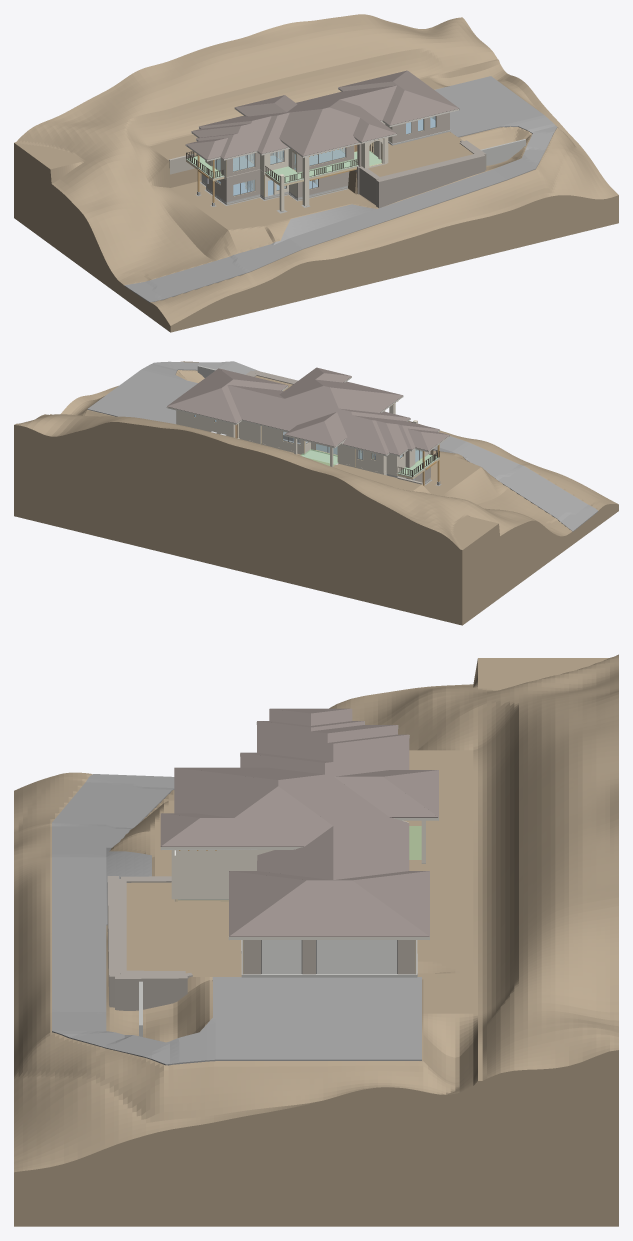
The model's file is reese_layers.glb.
3 views of the same model, one above another, from view 1: azimuth 30°, elevation 25°; view 2: azimuth 150°, elevation 25°; view 3: azimuth 270°, elevation 25° (orthographic). The views are drawn at different scales.
Parts seen in each view (by area): view 1: Backfill & Finish Grade, Driveway & Parking (paving per civil), Concrete Tile Roof (Class A), Front Boulder Retaining Wall (TW 5767.68, per civil), ML Ext Finish 028 stone, Fascia 2x10 (all roof edges), Concrete 010 W-10B Driveway Retaining Wall, ML Subfloor 23-32 T&G (FD-1), LL Ext Finish 017 stone, Entry Facade - stucco walls to roof line, arched opening, LL Ext Finish 015 stone, LL Slab on Grade 4in (+1 smaller); view 2: Backfill & Finish Grade, Concrete Tile Roof (Class A), Driveway & Parking (paving per civil), ML Ext Finish 000 stucco, Fascia 2x10 (all roof edges), ML Ext Finish 003 stucco, ML Ext Finish 001 stucco, ML Ext Finish 004 stucco; view 3: Backfill & Finish Grade, Concrete Tile Roof (Class A), Driveway & Parking (paving per civil), Front Boulder Retaining Wall (TW 5767.68, per civil), ML D-12 3 Car Garage slab, Entry Facade - stucco walls to roof line, arched opening, ML Ext Finish 053 stone, ML D-13 3 Car Garage slab, Fascia 2x10 (all roof edges), Garage Stem Walls 8in, ML Ext Finish 047 stucco.
Boxes of the visible parts, x1,y1,x2,y2 form: Backfill & Finish Grade: (14, 14, 618, 332); Driveway & Parking (paving per civil): (124, 76, 557, 302); Concrete Tile Roof (Class A): (186, 70, 459, 159); Front Boulder Retaining Wall (TW 5767.68, per civil): (355, 140, 486, 208); ML Ext Finish 028 stone: (392, 112, 449, 143); Fascia 2x10 (all roof edges): (185, 88, 459, 161); Concrete 010 W-10B Driveway Retaining Wall: (480, 139, 525, 165); ML Subfloor 23-32 T&G (FD-1): (212, 150, 356, 172); LL Ext Finish 017 stone: (297, 171, 349, 197); Entry Facade - stucco walls to roof line, arched opening: (361, 137, 388, 168); LL Ext Finish 015 stone: (227, 172, 260, 202); LL Slab on Grade 4in: (202, 180, 347, 204); Backfill & Finish Grade: (14, 361, 618, 625); Concrete Tile Roof (Class A): (167, 367, 449, 455); Driveway & Parking (paving per civil): (87, 361, 597, 531); ML Ext Finish 000 stucco: (176, 410, 233, 437); Fascia 2x10 (all roof edges): (166, 376, 449, 456); ML Ext Finish 003 stucco: (261, 426, 304, 454); ML Ext Finish 001 stucco: (356, 449, 383, 474); ML Ext Finish 004 stucco: (239, 421, 260, 444); Backfill & Finish Grade: (14, 654, 618, 1226); Concrete Tile Roof (Class A): (160, 708, 438, 936); Driveway & Parking (paving per civil): (52, 774, 421, 1065); Front Boulder Retaining Wall (TW 5767.68, per civil): (107, 876, 192, 1010); ML D-12 3 Car Garage slab: (316, 940, 396, 973); Entry Facade - stucco walls to roof line, arched opening: (171, 850, 220, 899); ML Ext Finish 053 stone: (243, 940, 415, 974); ML D-13 3 Car Garage slab: (262, 940, 301, 973); Fascia 2x10 (all roof edges): (160, 722, 438, 940); Garage Stem Walls 8in: (241, 940, 417, 977); ML Ext Finish 047 stucco: (220, 850, 245, 898).
Size of the model in its own units: 67.06 by 18.23 by 40.54.
Materials: 3 (3 with a texture image).
